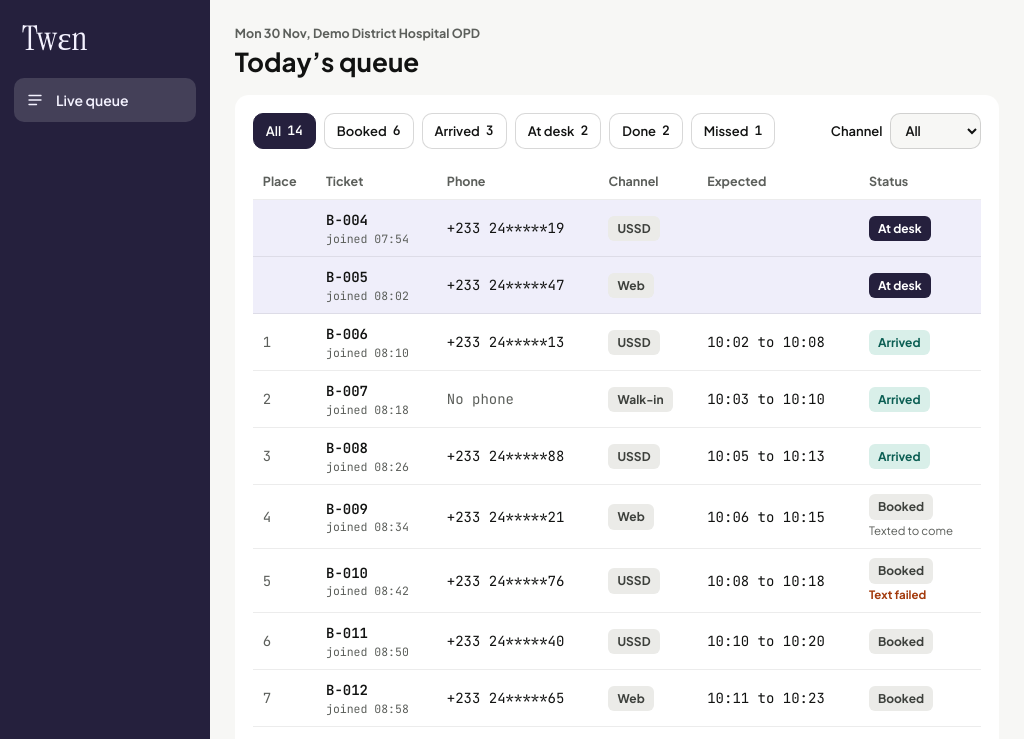
Test: staff queue screen › filters by status, and the pressed button says so
The width and height of the screenshot is (1024, 739).
Click the button "Arrived 3" at (464,131), box [422,113,507,149]
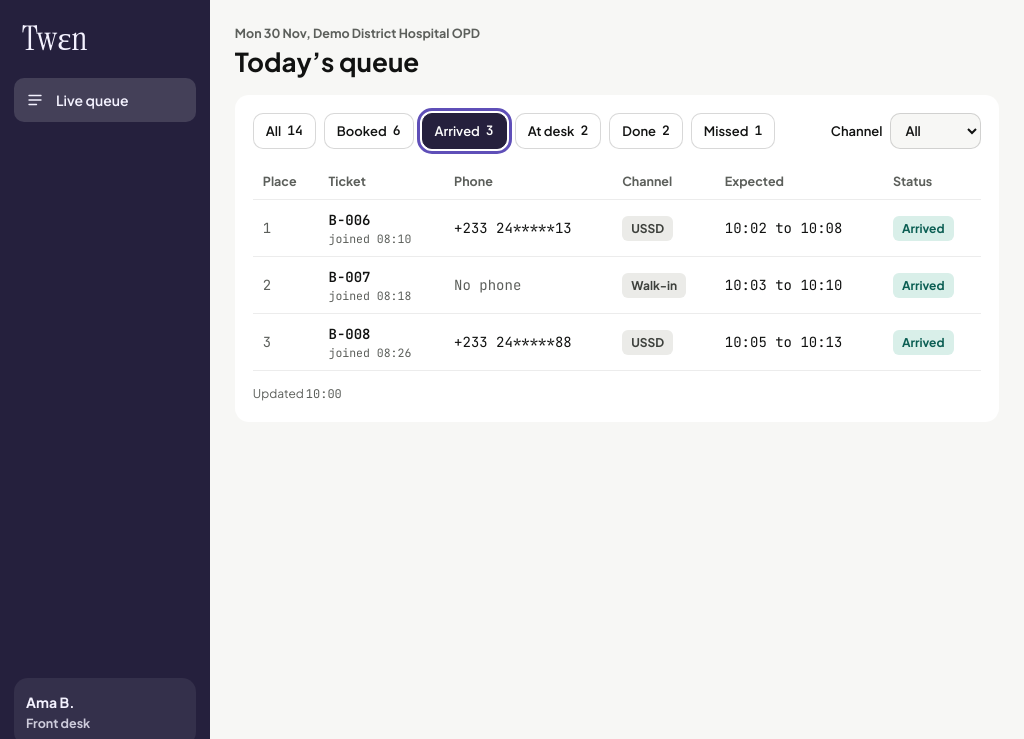
Check: the row that starts with "B-006" shows "Arrived", box [902,221,944,236]
Check: the button "Arrived 3" is pressed, box [422,113,507,149]
Check: the button "All 14" is not pressed, box [253,113,316,149]
